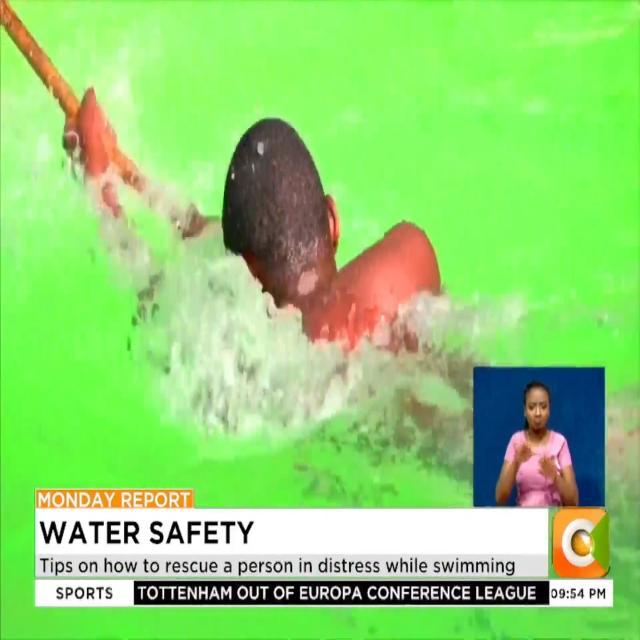swimming: (179, 95, 447, 417)
